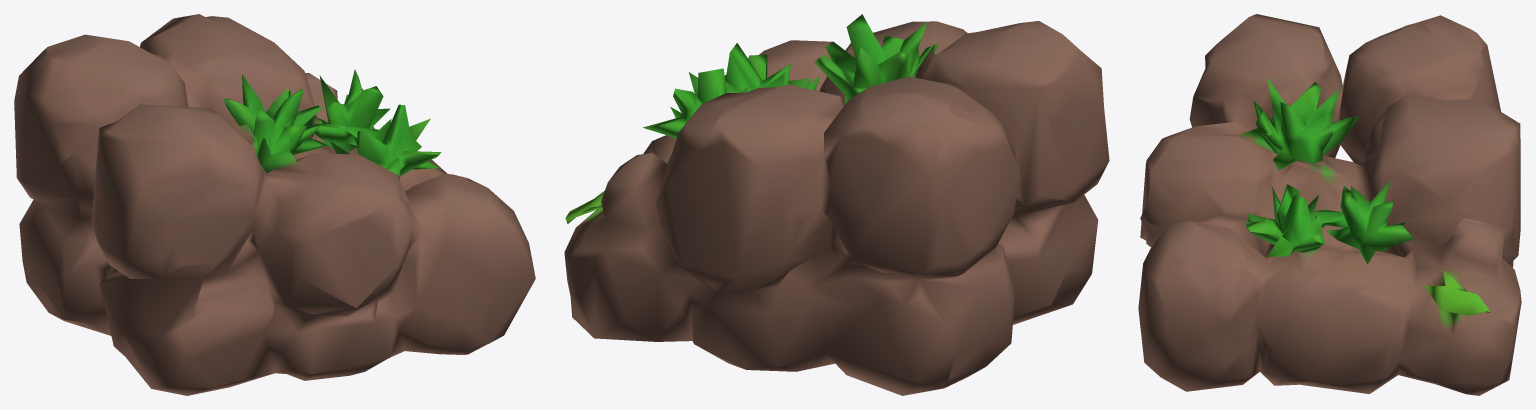
Rendered from camp_rocks_moss-B21-W__7.glb.
3 views of the same model, side by side, from view 1: azimuth 30°, elevation 25°; view 2: azimuth 150°, elevation 25°; view 3: azimuth 270°, elevation 25° (orthographic). The views are drawn at different scales.
Parts seen in each view (by area): view 1: tripo_node_3e4abd83-7e6c-444c-855c-557883359b8a; view 2: tripo_node_3e4abd83-7e6c-444c-855c-557883359b8a; view 3: tripo_node_3e4abd83-7e6c-444c-855c-557883359b8a.
Part boxes in pixels (box(x1,y1,x2,y2)): tripo_node_3e4abd83-7e6c-444c-855c-557883359b8a: box(14, 14, 535, 395); tripo_node_3e4abd83-7e6c-444c-855c-557883359b8a: box(564, 14, 1109, 395); tripo_node_3e4abd83-7e6c-444c-855c-557883359b8a: box(1138, 14, 1521, 395).
Size of the model in its own units: 1 by 0.6617 by 0.9509.
1 material, 1 textured.
